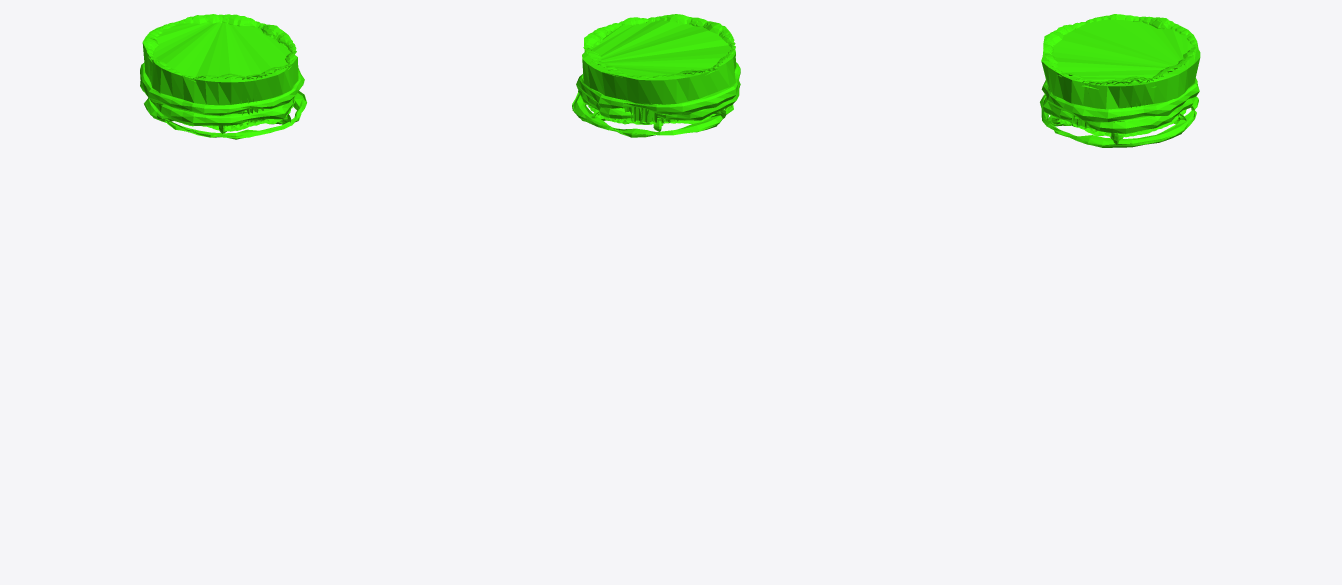
Rendered from crush_medium_1.obj.
3 views of the same model, side by side, from view 1: azimuth 30°, elevation 25°; view 2: azimuth 150°, elevation 25°; view 3: azimuth 270°, elevation 25° (orthographic).
Visible parts, largest first — view 1: model; view 2: model; view 3: model.
Boxes of the visible parts, x1,y1,x2,y2 form: model: [140, 14, 306, 139]; model: [572, 14, 740, 137]; model: [1040, 14, 1200, 147].
Size of the model in its own units: 0.1173 by 0.1455 by 0.121.
1 material, 1 textured.
